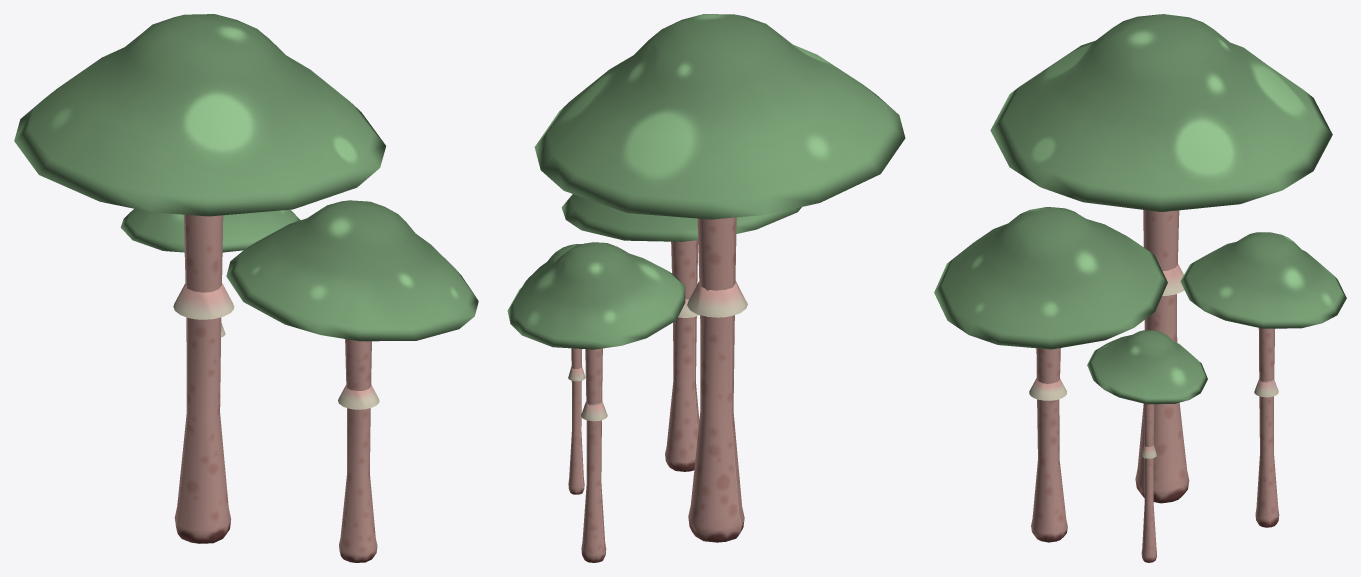
File: houba_zelenka.glb
3 renders of one model, left to right at view 1: azimuth 30°, elevation 25°; view 2: azimuth 150°, elevation 25°; view 3: azimuth 270°, elevation 25°, orthographic. The views are drawn at different scales.
Visible parts, largest first — view 1: houba_zelenka; view 2: houba_zelenka; view 3: houba_zelenka.
Part boxes in pixels (x1,y1,x2,y2): houba_zelenka: [14, 14, 478, 562]; houba_zelenka: [507, 14, 905, 562]; houba_zelenka: [934, 14, 1346, 562].
Size of the model in its own units: 0.0839 by 0.1121 by 0.0894.
Materials: 1 (1 with a texture image).
